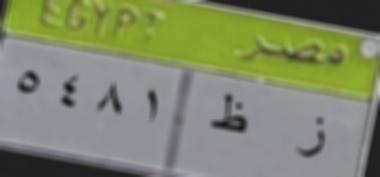1: (140, 80, 167, 129)
4: (55, 68, 84, 126)
5: (9, 63, 46, 110)
8: (95, 83, 130, 123)
Thaa: (208, 91, 253, 140)
zay: (292, 109, 332, 165)
